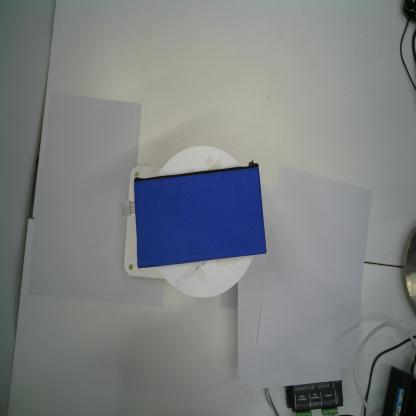Stationery: (133, 160, 267, 270)
